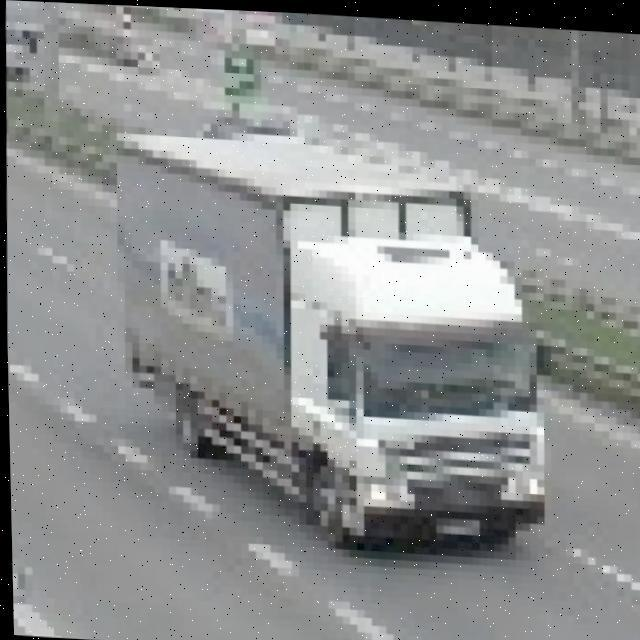truck: (109, 108, 570, 542)
